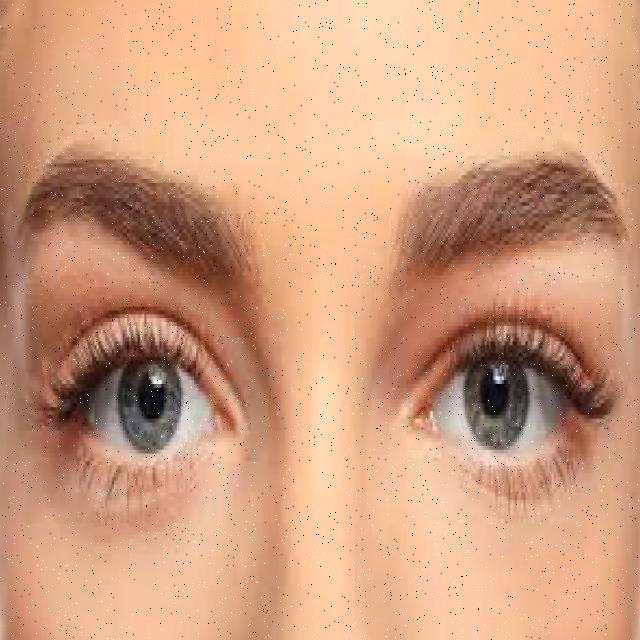puffy_eyes: (33, 470, 216, 557)
